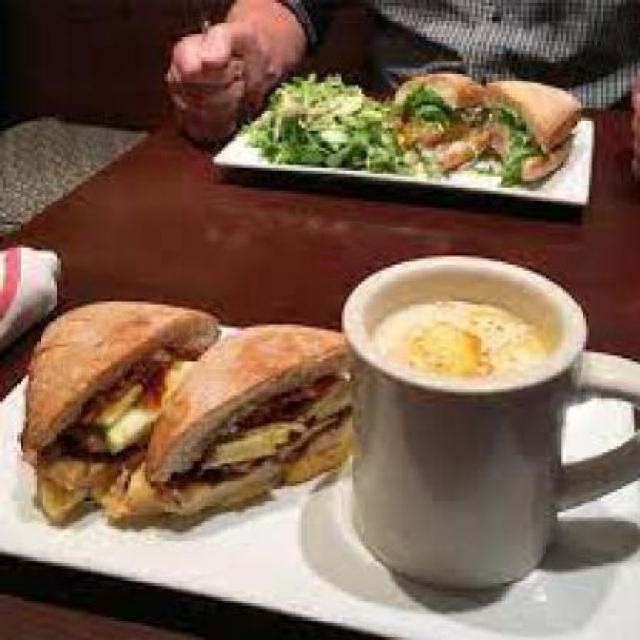caesar salad: (248, 71, 375, 171)
clam chowder: (350, 242, 618, 592)
club sandwich: (18, 288, 350, 549), (383, 60, 586, 188)
